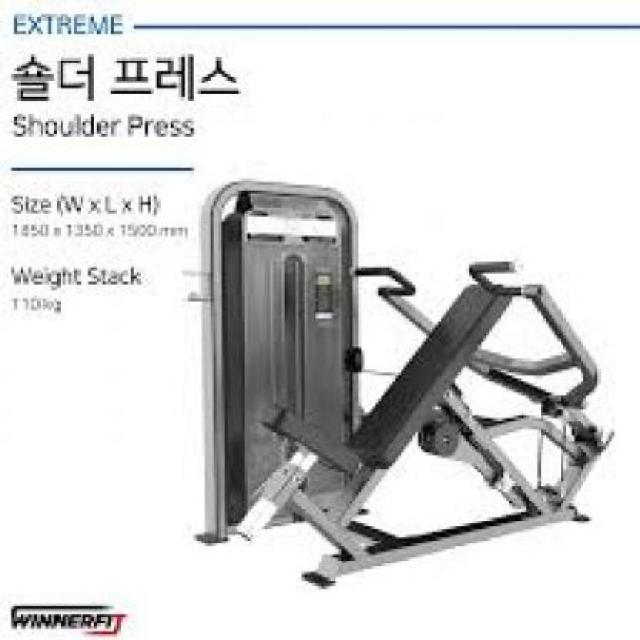shoulder press machine: (177, 176, 631, 606)
